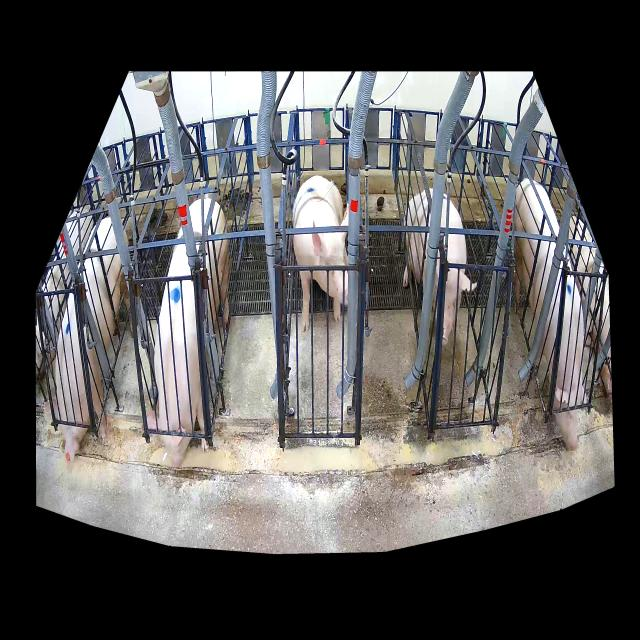pig: (146, 198, 230, 468), (53, 218, 133, 463), (514, 179, 586, 451), (404, 189, 476, 345), (293, 176, 348, 333)
